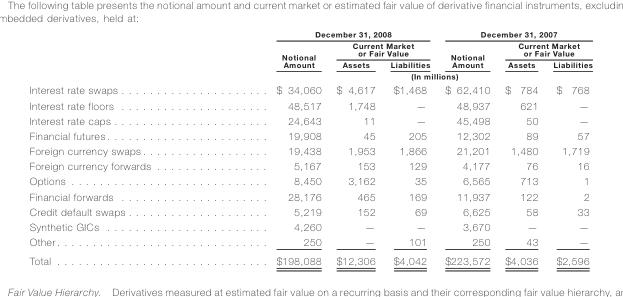table: (28, 29, 591, 266)
table column: (28, 29, 212, 266), (212, 29, 328, 266), (436, 29, 496, 266), (328, 29, 382, 266), (382, 29, 436, 266), (496, 29, 544, 266), (544, 29, 591, 266)
table column header: (28, 29, 591, 82)
table row: (28, 39, 591, 58), (28, 233, 591, 250), (28, 142, 591, 158), (28, 250, 591, 266), (28, 82, 591, 97), (28, 97, 591, 112), (28, 112, 591, 127), (28, 127, 591, 142), (28, 158, 591, 173), (28, 173, 591, 188), (28, 188, 591, 203), (28, 203, 591, 218), (28, 218, 591, 233), (28, 69, 591, 82), (28, 58, 591, 69), (28, 29, 591, 39)
table spanning cell: (212, 69, 591, 82), (212, 39, 328, 69), (212, 29, 436, 39), (328, 39, 436, 58), (496, 39, 591, 58), (436, 39, 496, 69), (436, 29, 591, 39)
